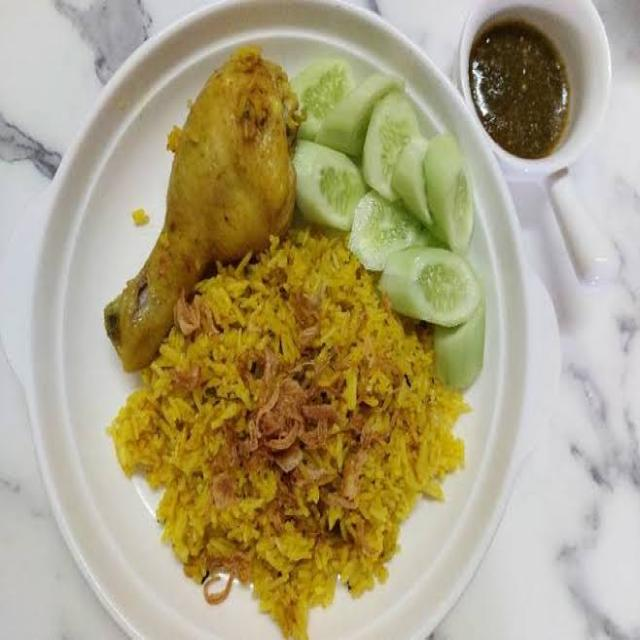carb: (182, 296, 428, 587)
chicken biryani: (84, 107, 482, 585)
meat: (98, 50, 280, 306)
vegetable: (300, 55, 498, 368)
